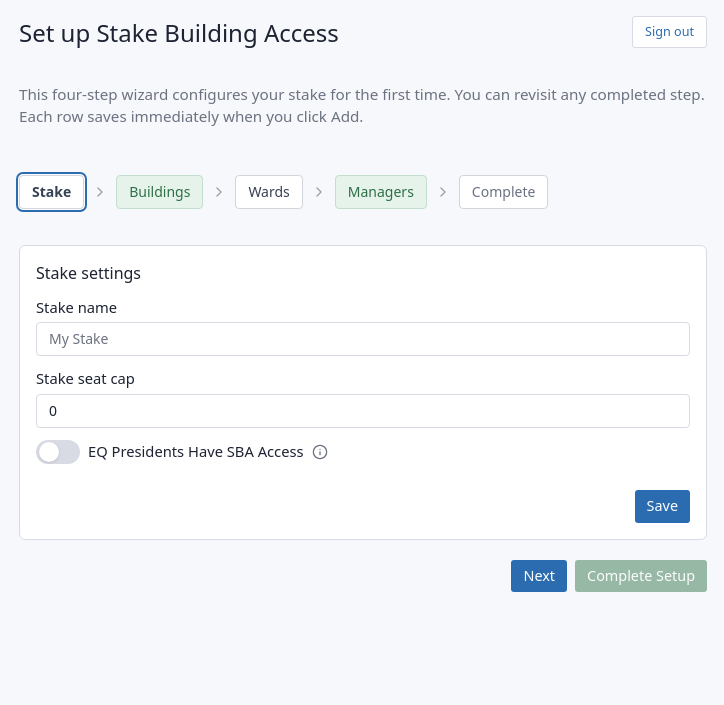
<BootstrapWizardPage /> › Next-button gating on the buildings and wards steps › enables Next on the buildings step once a building exists
Click the tab with test id "wizard-step-tab-2": (160, 192) top-left (116, 175), bottom-right (203, 209)
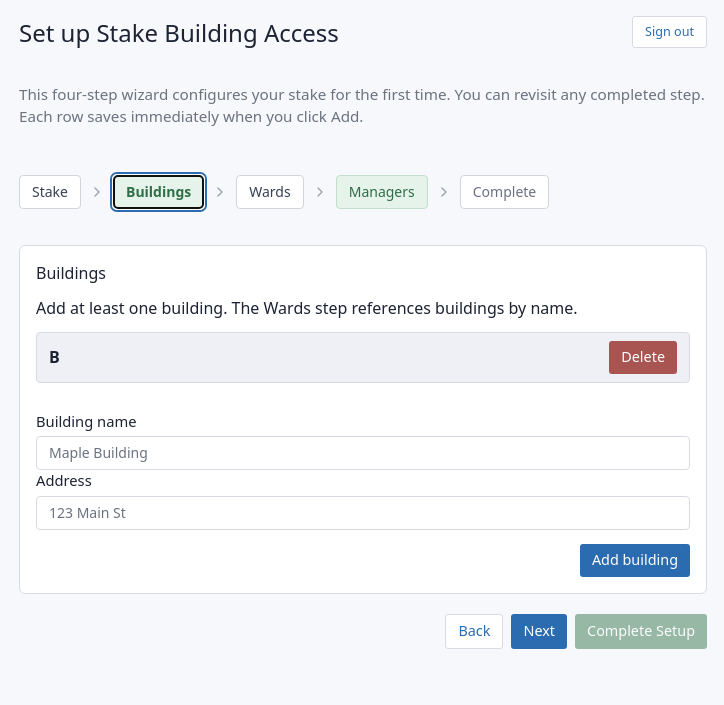
Click the button with test id "bootstrap-next": (539, 631) top-left (512, 614), bottom-right (567, 648)
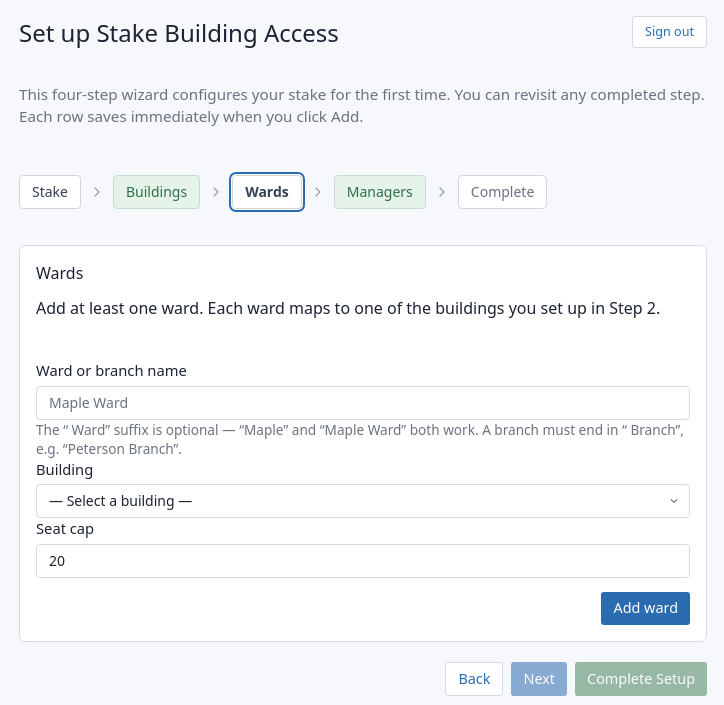
Expected: the element with test id "wizard-step-3" is shown, top-left (19, 245), bottom-right (707, 642)
